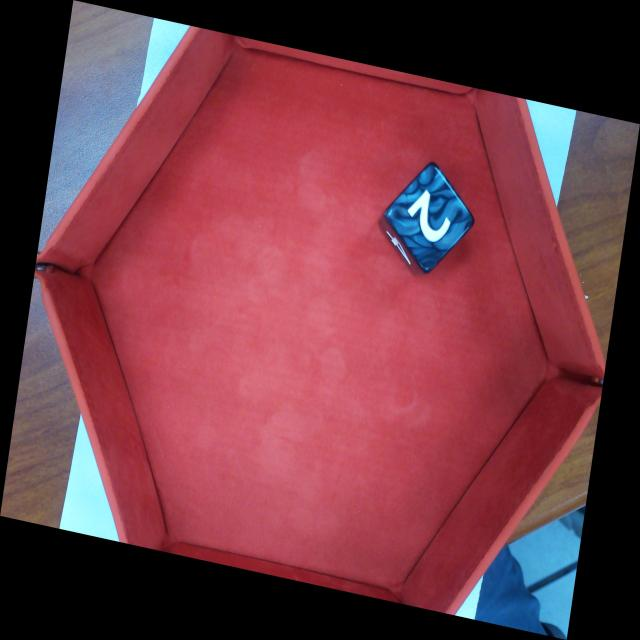dice: (382, 160, 475, 276)
